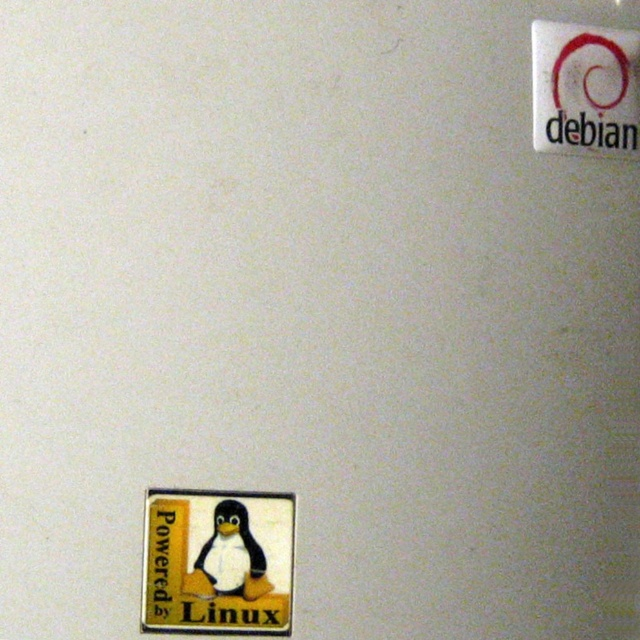Penguin: (183, 499, 273, 599)
